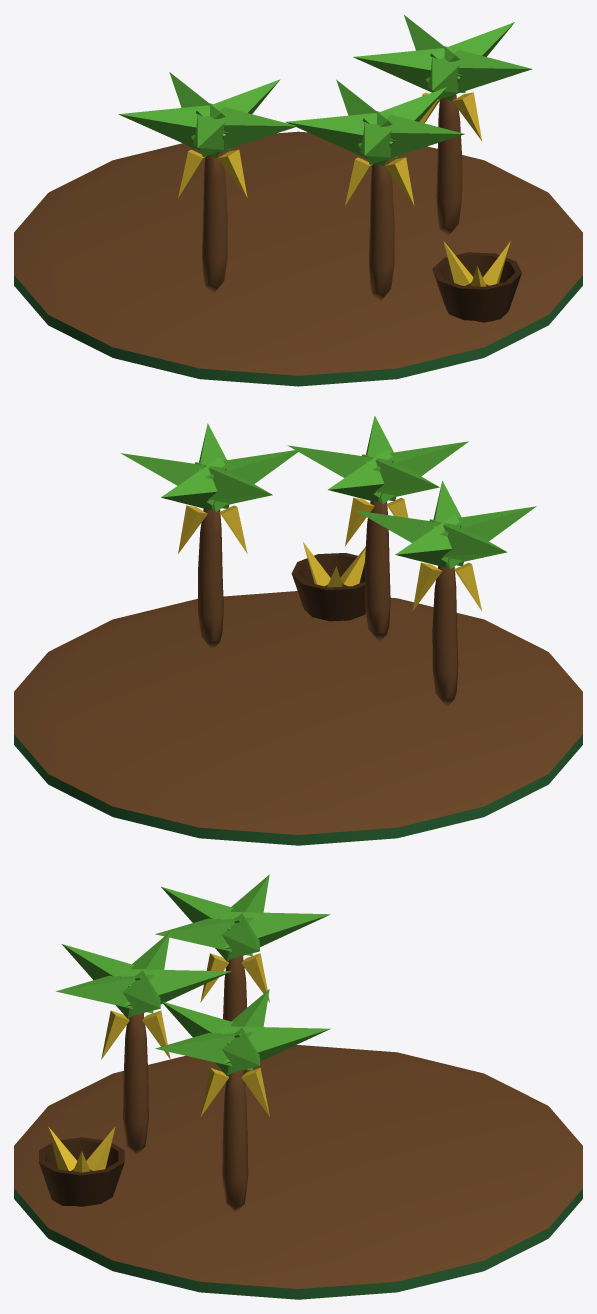
3 renders of one model, top to bottom at view 1: azimuth 30°, elevation 25°; view 2: azimuth 150°, elevation 25°; view 3: azimuth 270°, elevation 25°, orthographic.
Parts seen in each view (by area): view 1: fazenda_0_base, fazenda_1_torreta; view 2: fazenda_0_base, fazenda_1_torreta; view 3: fazenda_0_base, fazenda_1_torreta.
Part boxes in pixels (x1,y1,x2,y2): fazenda_0_base: (14,131,582,386); fazenda_1_torreta: (118,15,532,301); fazenda_0_base: (14,542,582,845); fazenda_1_torreta: (120,416,536,706); fazenda_0_base: (14,1045,582,1299); fazenda_1_torreta: (56,874,330,1213).
Size of the model in its own units: 1.28 by 0.5151 by 1.26.
